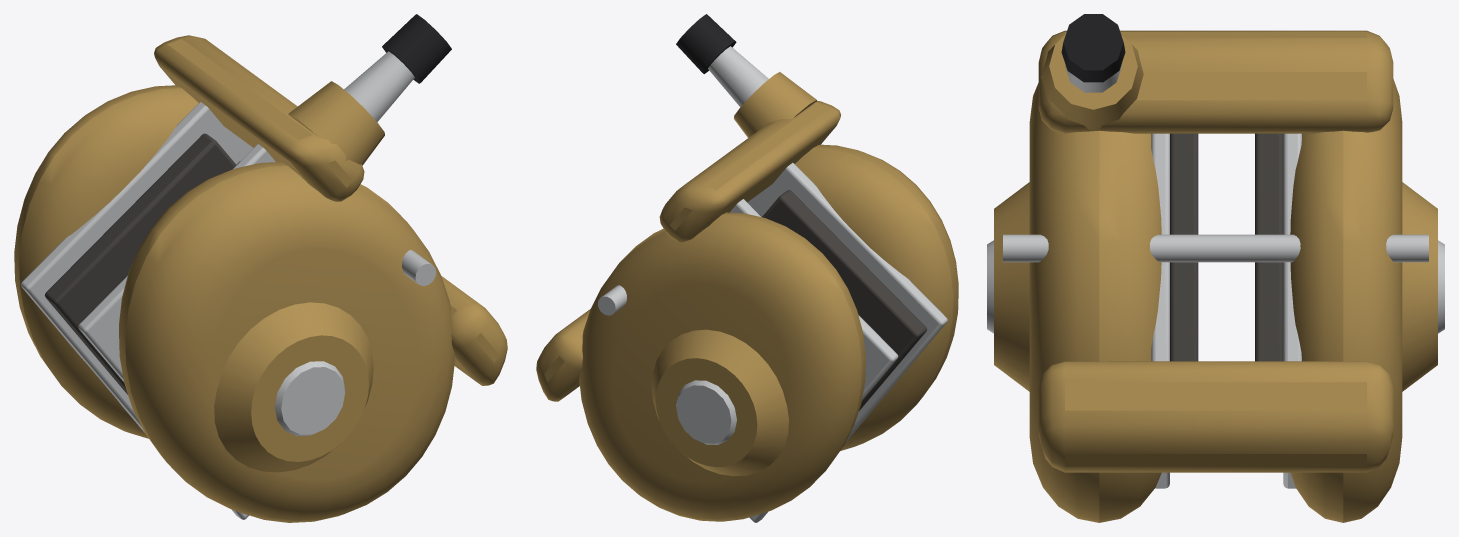
File: twopiece.glb
3 renders of one model, left to right at view 1: azimuth 30°, elevation 25°; view 2: azimuth 150°, elevation 25°; view 3: azimuth 270°, elevation 25°, orthographic. The views are drawn at different scales.
Parts seen in each view (by area): view 1: caliper_rear_twopiece; view 2: caliper_rear_twopiece; view 3: caliper_rear_twopiece.
Part boxes in pixels (box(x1,y1,x2,y2)): caliper_rear_twopiece: box(14, 14, 507, 522); caliper_rear_twopiece: box(536, 14, 958, 522); caliper_rear_twopiece: box(987, 14, 1444, 522).
Size of the model in its own units: 0.0572 by 0.0695 by 0.0516.
